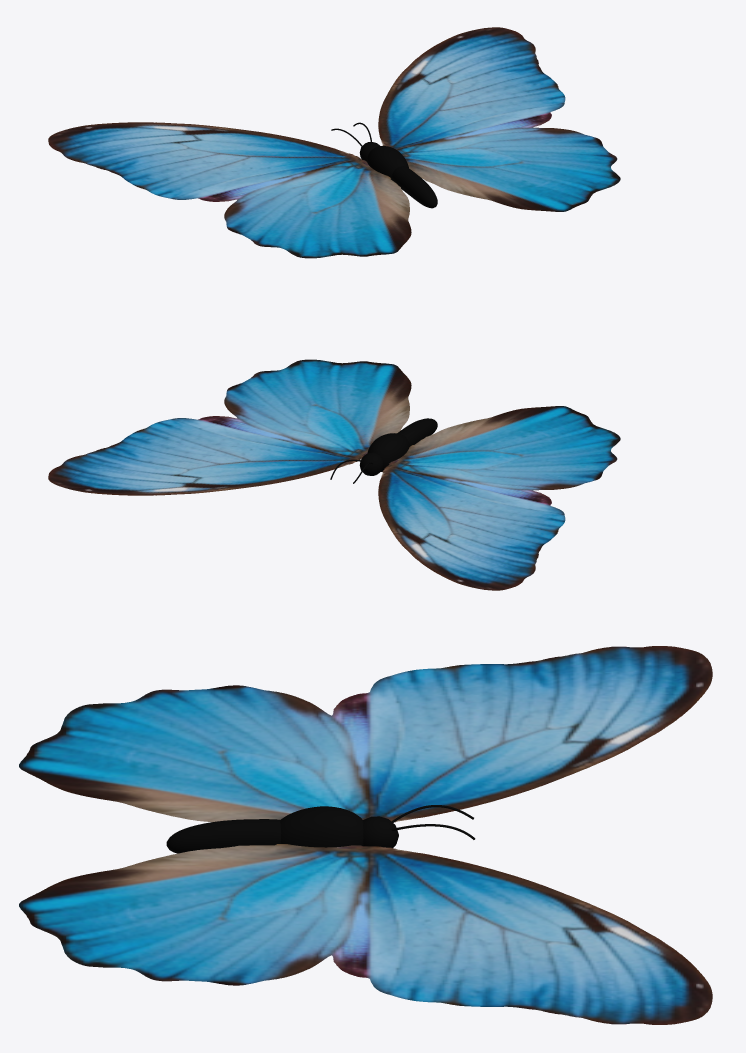
The model's file is Butterfly_.fbx.
3 views of the same model, one above another, from view 1: azimuth 30°, elevation 25°; view 2: azimuth 150°, elevation 25°; view 3: azimuth 270°, elevation 25° (orthographic). The views are drawn at different scales.
Parts seen in each view (by area): view 1: Left_Wing, Right_Wing, Body; view 2: Left_Wing, Right_Wing, Body; view 3: Right_Wing, Left_Wing, Body.
Part boxes in pixels (x1,y1,x2,y2): Left_Wing: [48, 122, 411, 258]; Right_Wing: [378, 27, 620, 211]; Body: [331, 122, 437, 208]; Left_Wing: [378, 406, 620, 590]; Right_Wing: [48, 359, 411, 495]; Body: [330, 418, 437, 483]; Right_Wing: [19, 844, 712, 1024]; Left_Wing: [19, 646, 712, 822]; Body: [166, 805, 475, 853].
Bounding box in the file's own units: 268 × 15.95 × 200.
